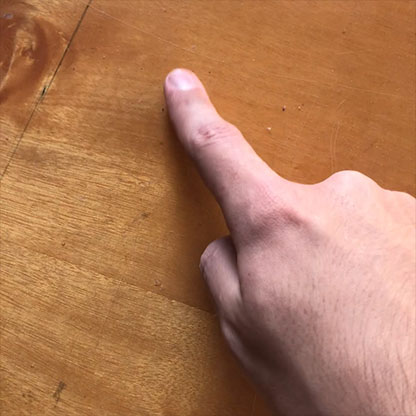fingertip: (151, 55, 214, 105)
